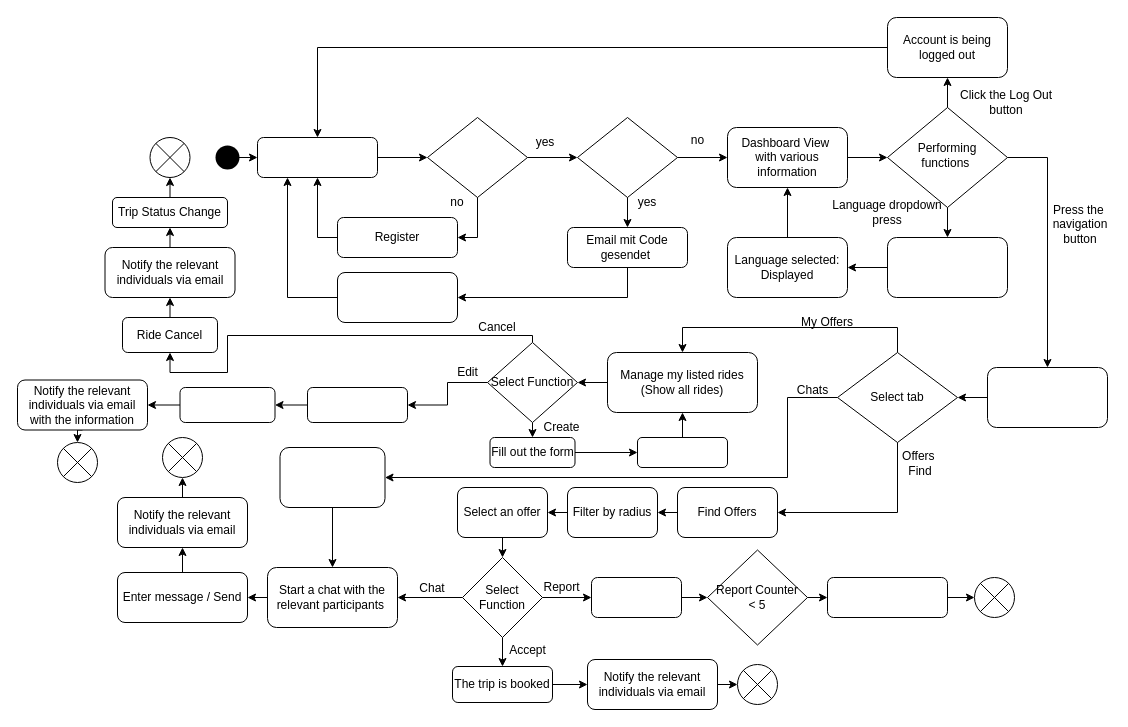
The diagram is 1128 pixels wide and 727 high, and some of its shapes have lost their labels. Each missing label, with the centre of its shape:
"Change specific values" belongs at point 227,404.
"Chat Management (All active chats)" belongs at point 332,477.
"First-time registration" belongs at point 627,157.
"Form for entering the code to activate your account" belongs at point 397,297.
"Has an account" belongs at point 477,157.
"Open the navigation menu" belongs at point 1047,397.
"Processing the message" belongs at point 636,597.
"Ride Edit" belongs at point 357,404.
"Select Language" belongs at point 947,267.
"Sign In" belongs at point 317,157.
"Trip is being created" belongs at point 682,452.
"User's account has been suspended" belongs at point 887,597.
